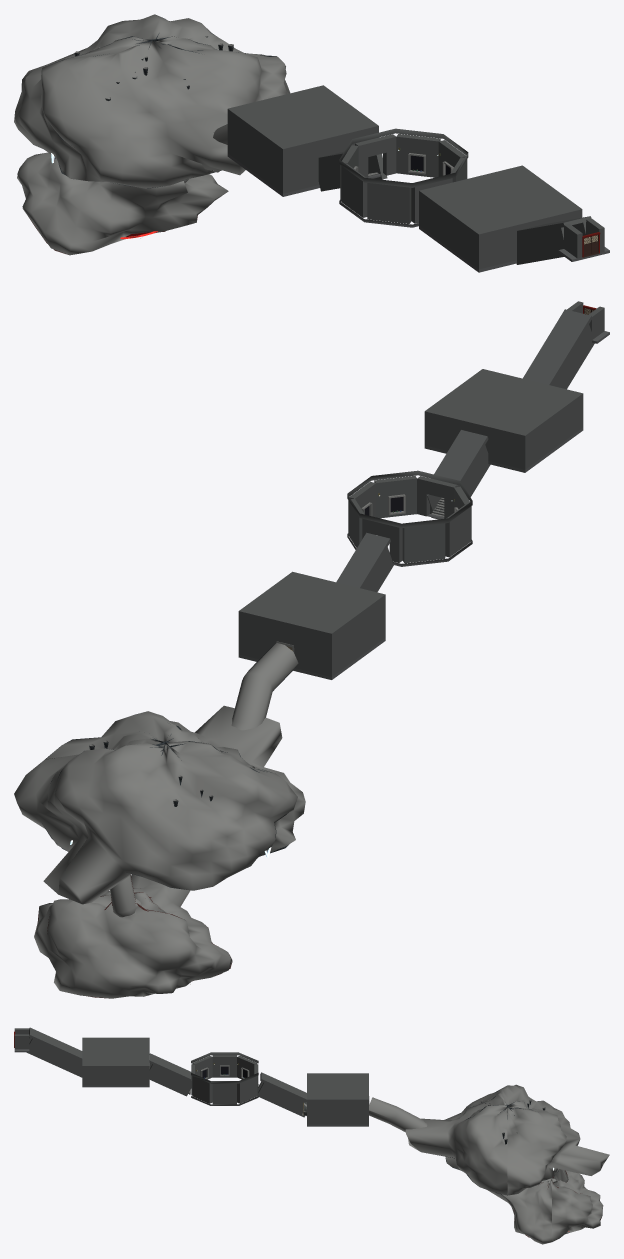
Rendered from prop_gu_vault.gltf.
3 renders of one model, top to bottom at view 1: azimuth 30°, elevation 25°; view 2: azimuth 150°, elevation 25°; view 3: azimuth 270°, elevation 25°, orthographic. The views are drawn at different scales.
Parts seen in each view (by area): view 1: Far, Near; view 2: Far, Near; view 3: Far, Near.
Part boxes in pixels (x1,y1,x2,y2): Far: (14,14,609,272); Near: (29,16,598,253); Far: (14,301,609,998); Near: (36,308,593,998); Far: (14,1027,609,1244); Near: (189,1063,601,1237).
Size of the model in its own units: 33.12 by 41.86 by 121.
Materials: 40 (19 with a texture image).
